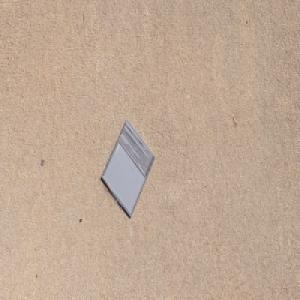PlasticPart: (101, 118, 156, 218)
